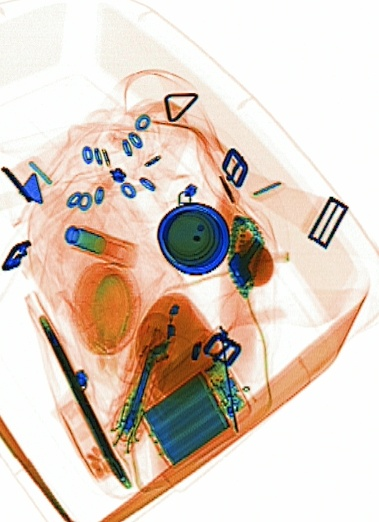powerbank: (138, 350, 253, 470)
